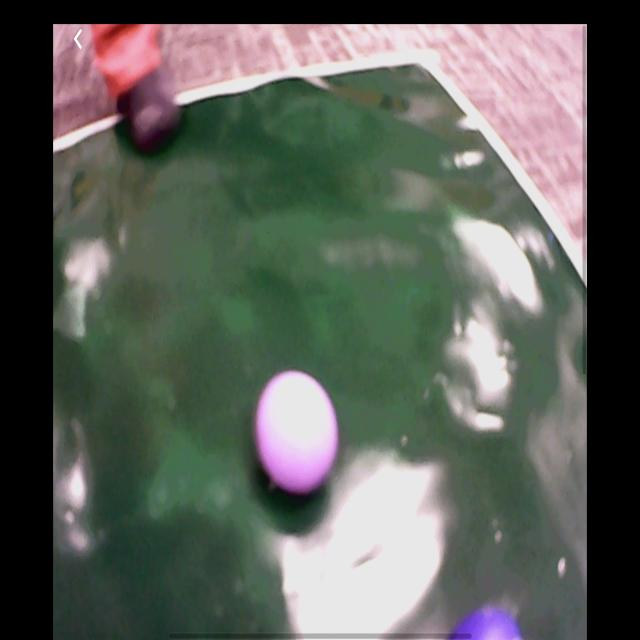ball: (258, 370, 339, 497), (454, 606, 522, 638)
